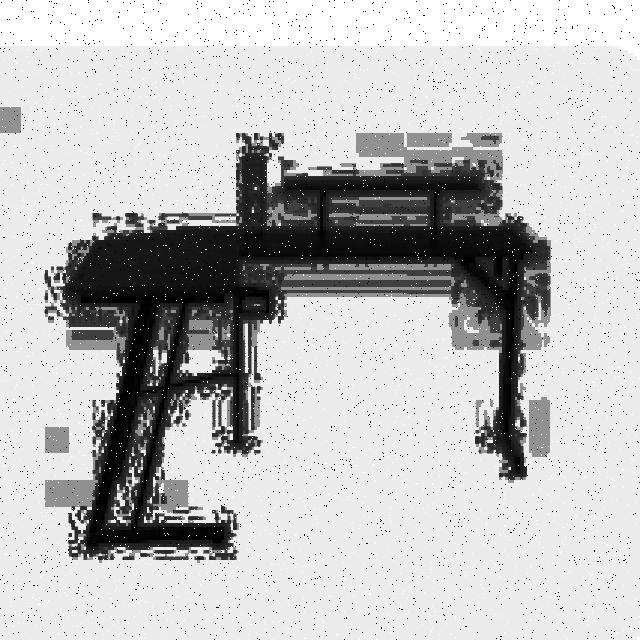table: (63, 220, 532, 547), (281, 173, 479, 230)
